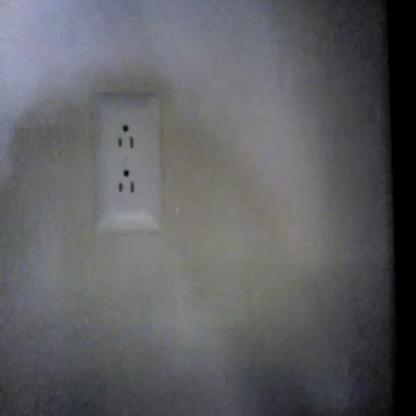OUTLET: (92, 94, 160, 235)
